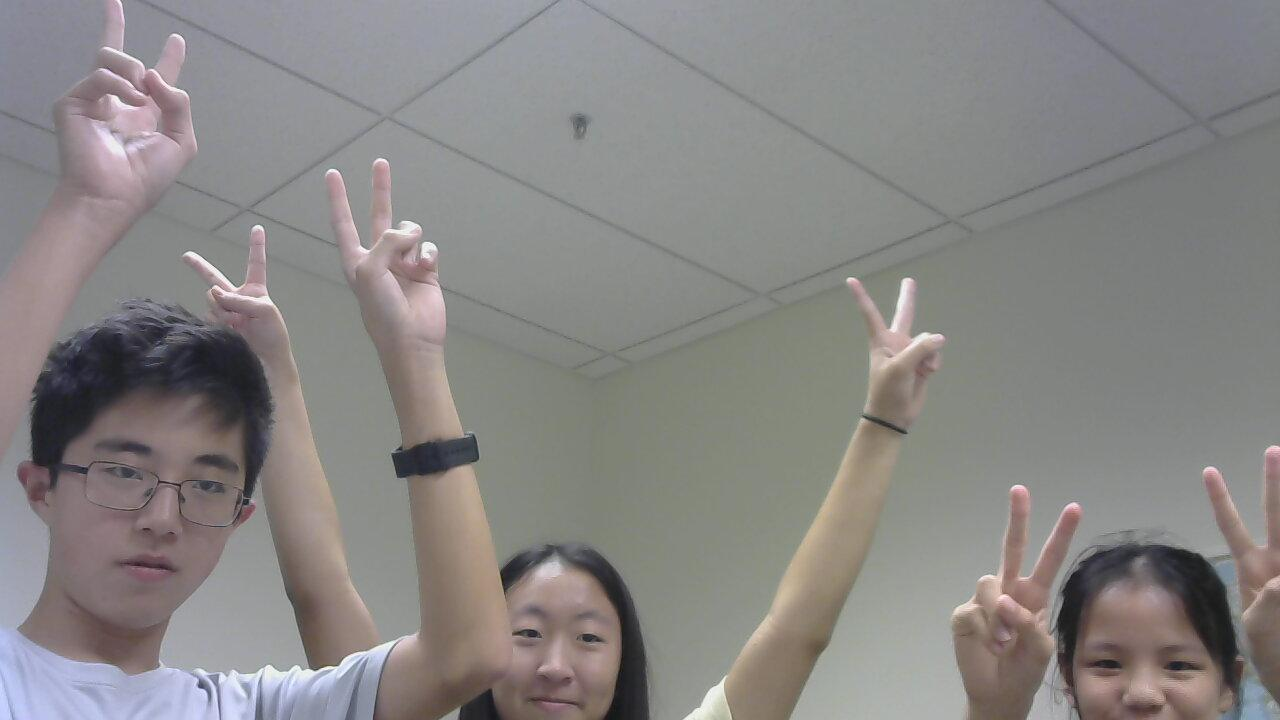peace: (936, 467, 1079, 720), (316, 147, 461, 361), (63, 4, 212, 206), (823, 262, 954, 453), (1190, 431, 1280, 707), (181, 224, 289, 368)
